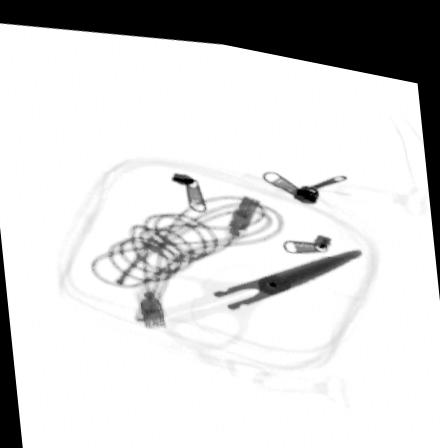Scissors: (122, 234, 361, 341)
